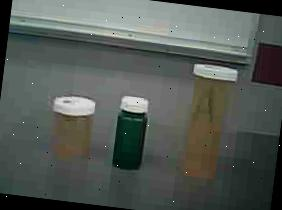Bottle A: (171, 56, 247, 192)
Bottle B: (42, 84, 104, 168)
Bottle C: (103, 86, 160, 181)
